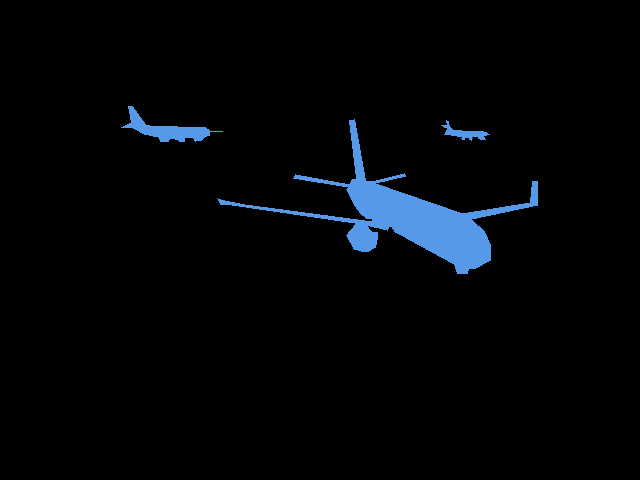Airplane: (217, 119, 537, 274), (121, 106, 222, 142), (441, 120, 489, 141)
